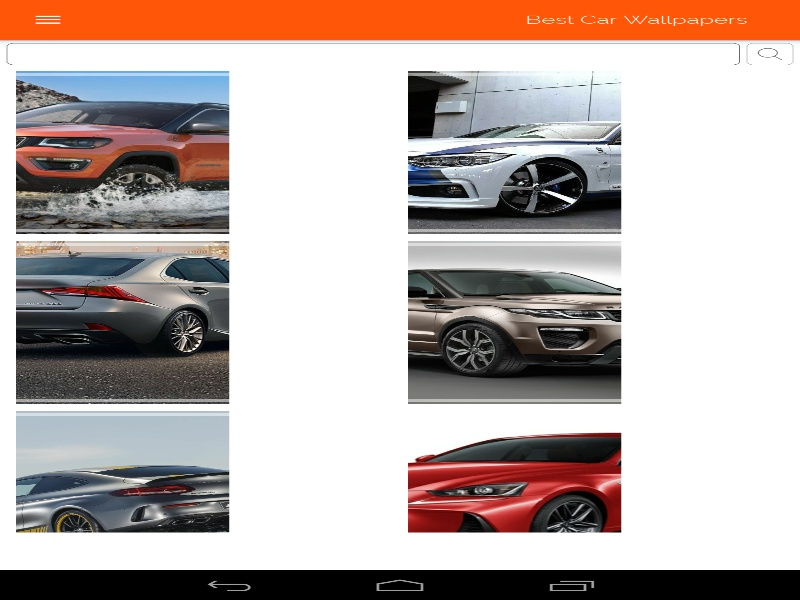Button: (10, 0, 85, 40), (746, 43, 793, 65)
Input: (6, 43, 740, 65)
